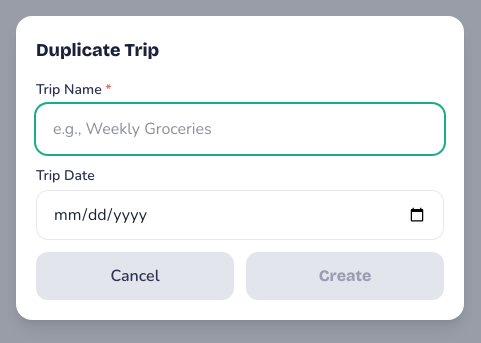
it: DuplicateTripDialog › should enable Create when name is entered
Type "My Trip" into the field labelled "Trip Name" at (240, 129), box [36,104,444,154]
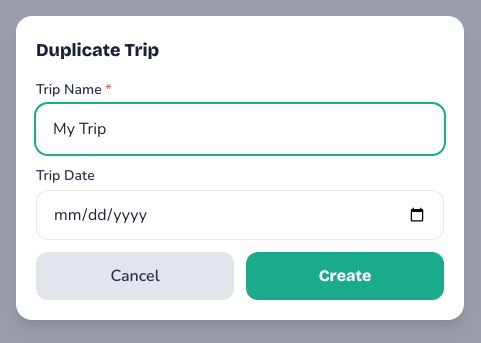
Expected: the button "Create" is enabled, [246,252,444,300]
